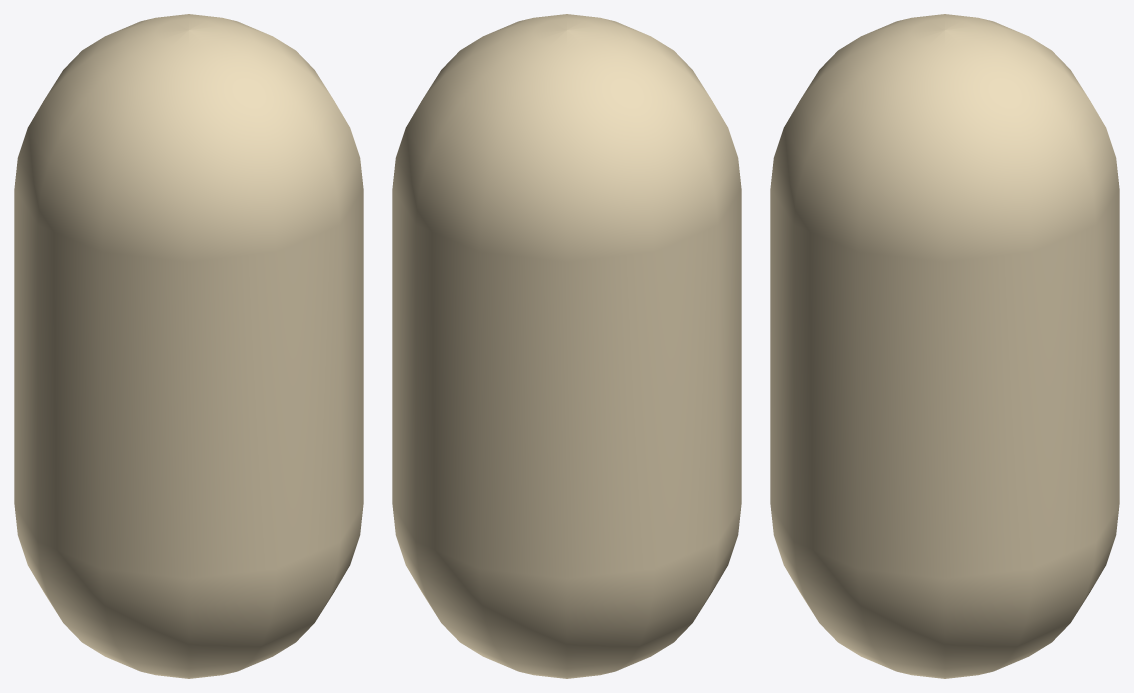
The model's file is p0841-protokol-posolstva.glb.
The picture shows the model from 3 angles, left to right: view 1: azimuth 30°, elevation 25°; view 2: azimuth 150°, elevation 25°; view 3: azimuth 270°, elevation 25°; orthographic projection.
Visible parts, largest first — view 1: p0841-protokol-posolstva; view 2: p0841-protokol-posolstva; view 3: p0841-protokol-posolstva.
Boxes of the visible parts, x1,y1,x2,y2 form: p0841-protokol-posolstva: [14, 14, 363, 678]; p0841-protokol-posolstva: [392, 14, 741, 678]; p0841-protokol-posolstva: [770, 14, 1119, 678].
Size of the model in its own units: 0.15 by 0.3 by 0.15.
